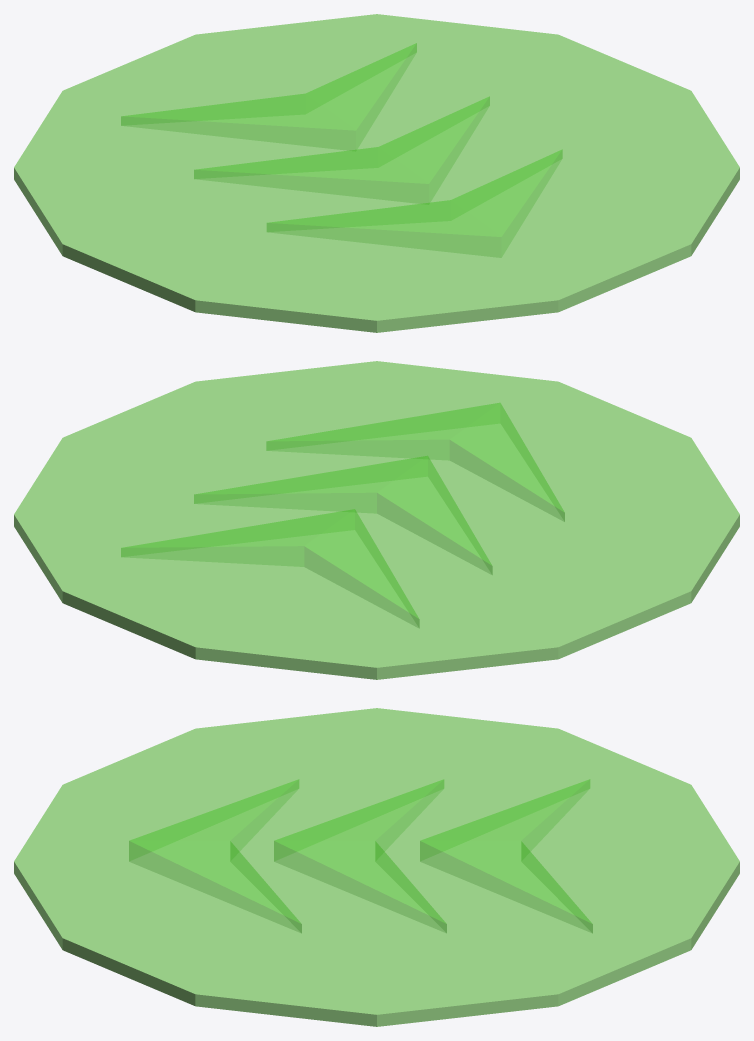
File: speeder.fbx
3 views of the same model, one above another, from view 1: azimuth 30°, elevation 25°; view 2: azimuth 150°, elevation 25°; view 3: azimuth 270°, elevation 25° (orthographic).
Visible parts, largest first — view 1: Cylinder, Plane, Plane.002, Plane.001; view 2: Cylinder, Plane.002, Plane.001, Plane; view 3: Cylinder, Plane.001, Plane.002, Plane.
Part boxes in pixels (x1=…): Cylinder: x1=14, y1=14, x2=739, y2=332; Plane: x1=267, y1=149, x2=562, y2=257; Plane.002: x1=121, y1=43, x2=416, y2=150; Plane.001: x1=194, y1=96, x2=489, y2=203; Cylinder: x1=14, y1=361, x2=739, y2=679; Plane.002: x1=121, y1=509, x2=419, y2=627; Plane.001: x1=194, y1=456, x2=492, y2=574; Plane: x1=266, y1=403, x2=564, y2=521; Cylinder: x1=14, y1=708, x2=739, y2=1026; Plane.001: x1=274, y1=779, x2=446, y2=932; Plane.002: x1=420, y1=779, x2=592, y2=933; Plane: x1=129, y1=779, x2=301, y2=932.
Bounding box in the file's own units: 5.98 × 0.301 × 5.98.
